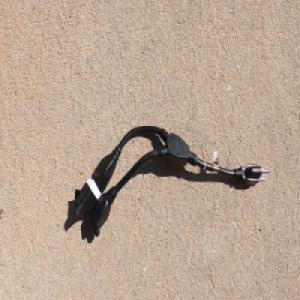Wire: (73, 124, 271, 237)
